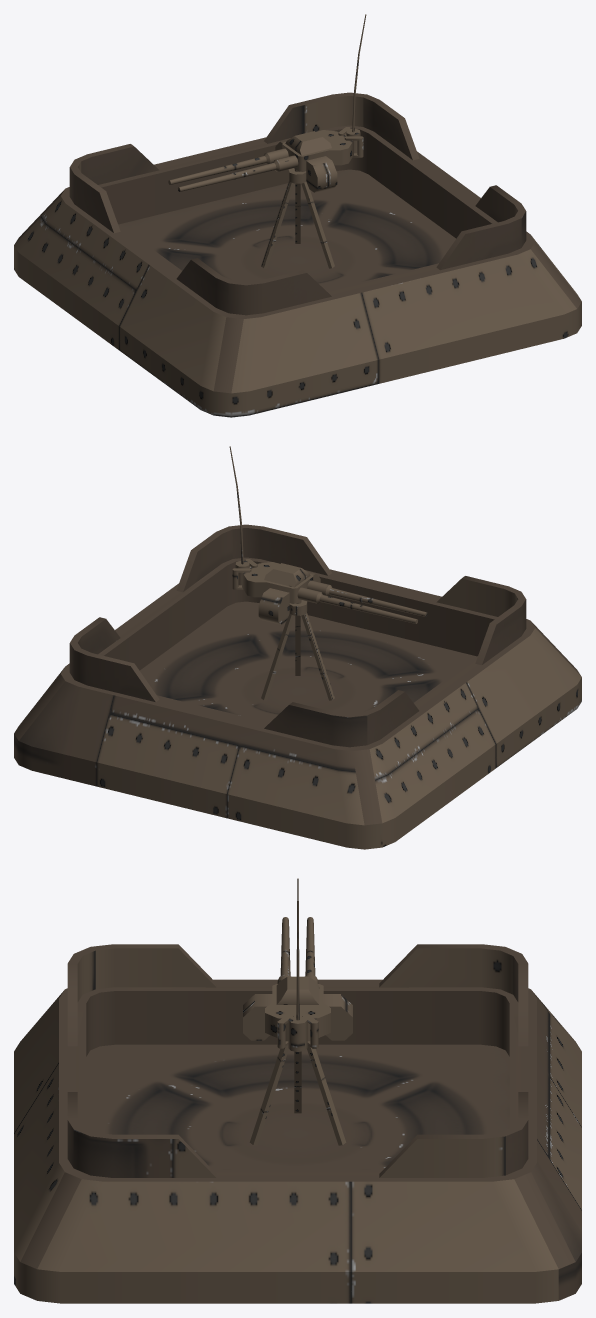
File: Basic_Tower_level2 1.fbx
3 renders of one model, top to bottom at view 1: azimuth 30°, elevation 25°; view 2: azimuth 150°, elevation 25°; view 3: azimuth 270°, elevation 25°, orthographic. The views are drawn at different scales.
Visible parts, largest first — view 1: BT2_Base, BT2_Gun, BT2_Tripod; view 2: BT2_Base, BT2_Gun, BT2_Tripod; view 3: BT2_Base, BT2_Gun, BT2_Tripod.
Boxes of the visible parts, x1,y1,x2,y2 form: BT2_Base: (14,92,581,417); BT2_Gun: (168,14,366,192); BT2_Tripod: (261,168,334,268); BT2_Base: (14,524,581,849); BT2_Gun: (229,446,427,624); BT2_Tripod: (261,600,334,700); BT2_Base: (14,944,581,1303); BT2_Gun: (243,878,352,1051); BT2_Tripod: (249,1045,346,1145).
Size of the model in its own units: 5.99 by 4.05 by 5.99.
